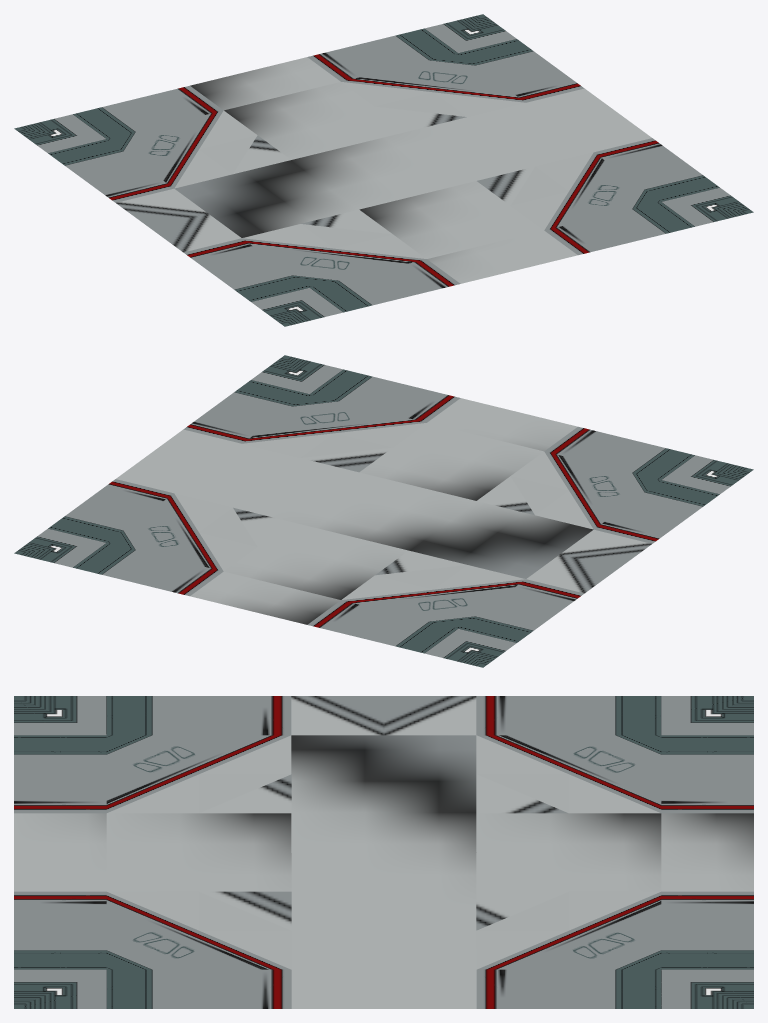
Rendered from Corridor4opening.fbx.
The picture shows the model from 3 angles, top to bottom: view 1: azimuth 30°, elevation 25°; view 2: azimuth 150°, elevation 25°; view 3: azimuth 270°, elevation 25°; orthographic projection. The views are drawn at different scales.
Parts seen in each view (by area): view 1: SolHangar.005; view 2: SolHangar.005; view 3: SolHangar.005.
Boxes of the visible parts, <box> form: SolHangar.005: <box>14,14,753,326</box>; SolHangar.005: <box>14,355,753,667</box>; SolHangar.005: <box>14,696,753,1008</box>.
Size of the model in its own units: 600 by 600 by 0.
